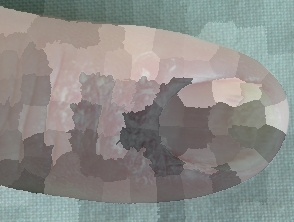Nail_psoriasis: (46, 55, 286, 186)
